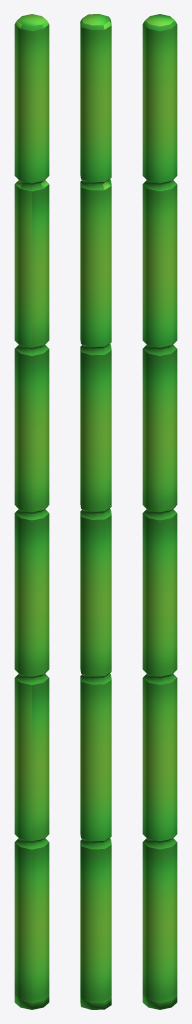
Rendered from bamboo_03.fbx.
3 views of the same model, side by side, from view 1: azimuth 90°, elevation 25°; view 2: azimuth 210°, elevation 25°; view 3: azimuth 270°, elevation 25° (orthographic).
Parts seen in each view (by area): view 1: Cube.033; view 2: Cube.033; view 3: Cube.033.
Part boxes in pixels (x1=…): Cube.033: x1=14, y1=14, x2=49, y2=1009; Cube.033: x1=80, y1=14, x2=111, y2=1009; Cube.033: x1=142, y1=14, x2=177, y2=1009.
Size of the model in its own units: 23.7 by 743 by 23.7.
